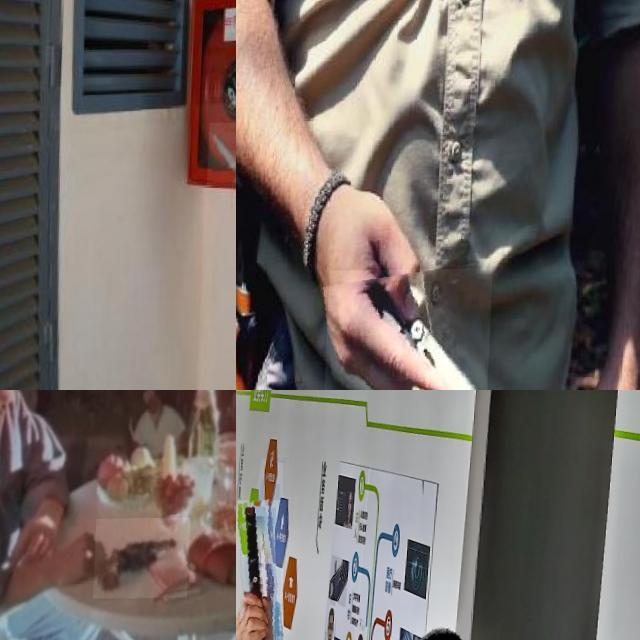-: (327, 269, 496, 390), (209, 123, 236, 186)
gun-knife-thesis - v11 Yolov5 augmented: (98, 518, 194, 600), (236, 500, 287, 640)
